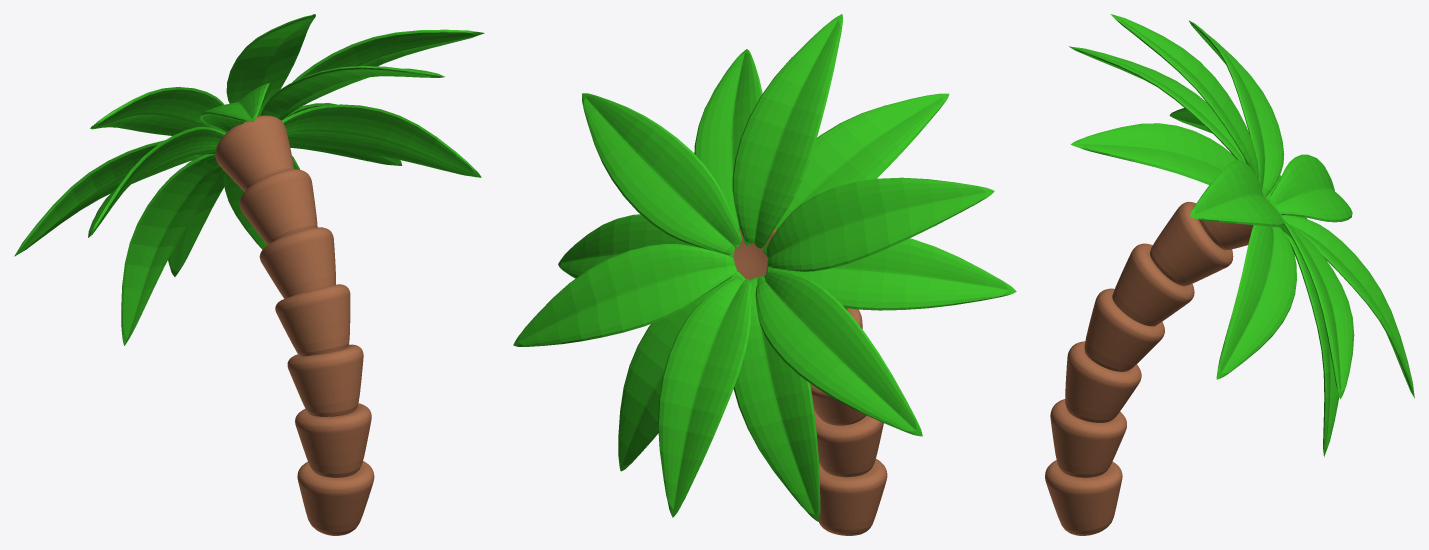
File: Palmera1_45.fbx
3 renders of one model, left to right at view 1: azimuth 30°, elevation 25°; view 2: azimuth 150°, elevation 25°; view 3: azimuth 270°, elevation 25°, orthographic. The views are drawn at different scales.
Parts seen in each view (by area): view 1: Cylinder.034; view 2: Cylinder.034; view 3: Cylinder.034.
Part boxes in pixels (bbox=[...]): Cylinder.034: bbox=[14, 14, 484, 535]; Cylinder.034: bbox=[513, 14, 1016, 535]; Cylinder.034: bbox=[1045, 14, 1414, 535].
Size of the model in its own units: 6686 by 7798 by 5096.
